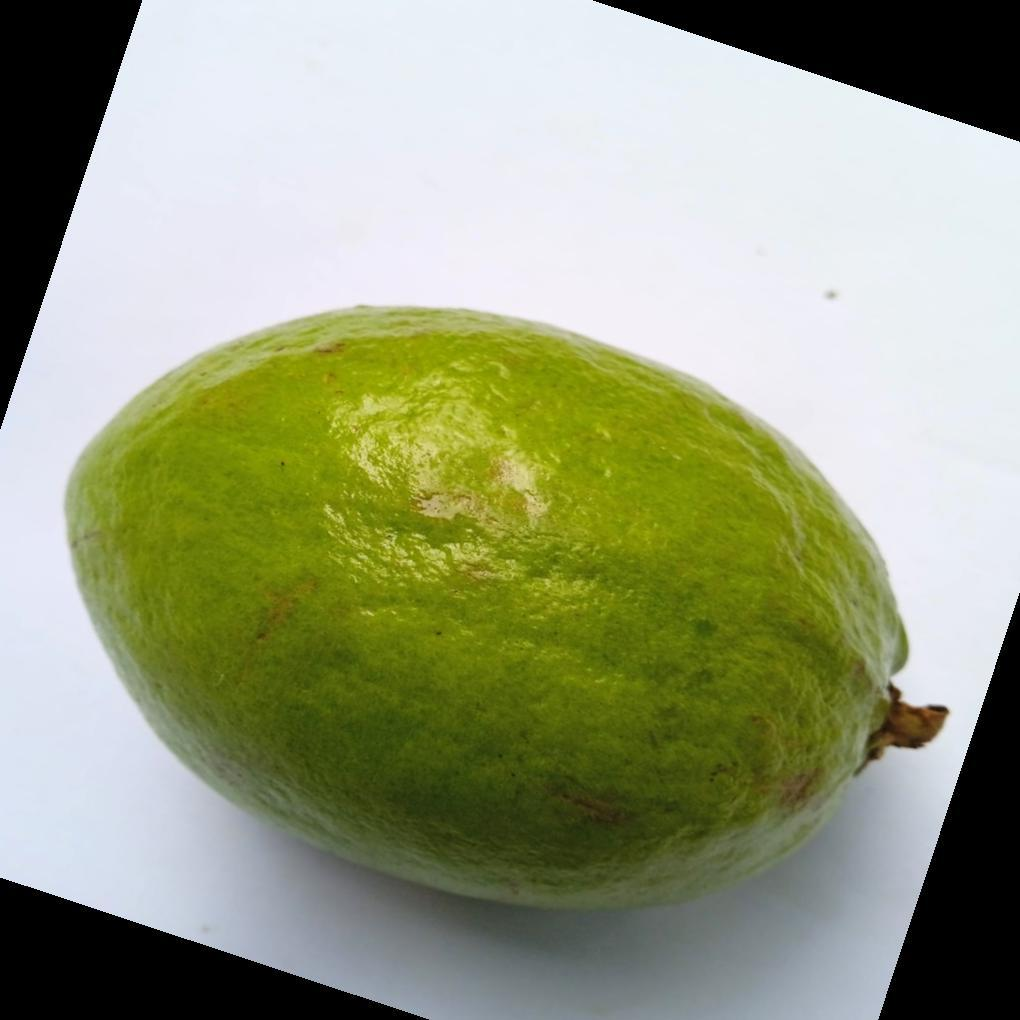FreshGuava: (61, 306, 926, 917)
